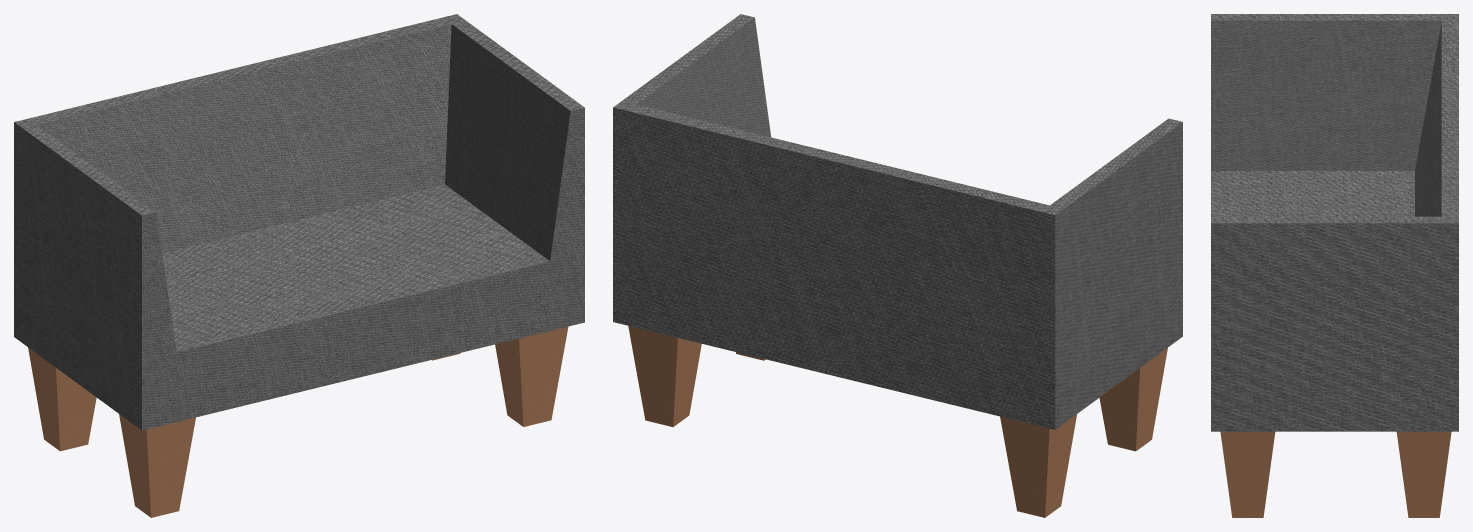
Rendered from CouchV1.gltf.
3 views of the same model, side by side, from view 1: azimuth 30°, elevation 25°; view 2: azimuth 150°, elevation 25°; view 3: azimuth 270°, elevation 25° (orthographic). The views are drawn at different scales.
Parts seen in each view (by area): view 1: Cube, Cube.004, Cube.002, Cube.005; view 2: Cube, Cube.005, Cube.003, Cube.004; view 3: Cube, Cube.002, Cube.003.
Part boxes in pixels (bbox=[...]): Cube: bbox=[14, 14, 584, 430]; Cube.004: bbox=[119, 414, 195, 517]; Cube.002: bbox=[495, 326, 568, 426]; Cube.005: bbox=[28, 347, 96, 451]; Cube: bbox=[613, 14, 1182, 429]; Cube.005: bbox=[1000, 414, 1076, 517]; Cube.003: bbox=[628, 326, 701, 426]; Cube.004: bbox=[1099, 348, 1167, 451]; Cube: bbox=[1211, 14, 1458, 431]; Cube.002: bbox=[1220, 431, 1275, 517]; Cube.003: bbox=[1396, 431, 1451, 517].
Bounding box in the file's own units: 1 × 0.68 × 0.5.
1 material, 1 textured.
